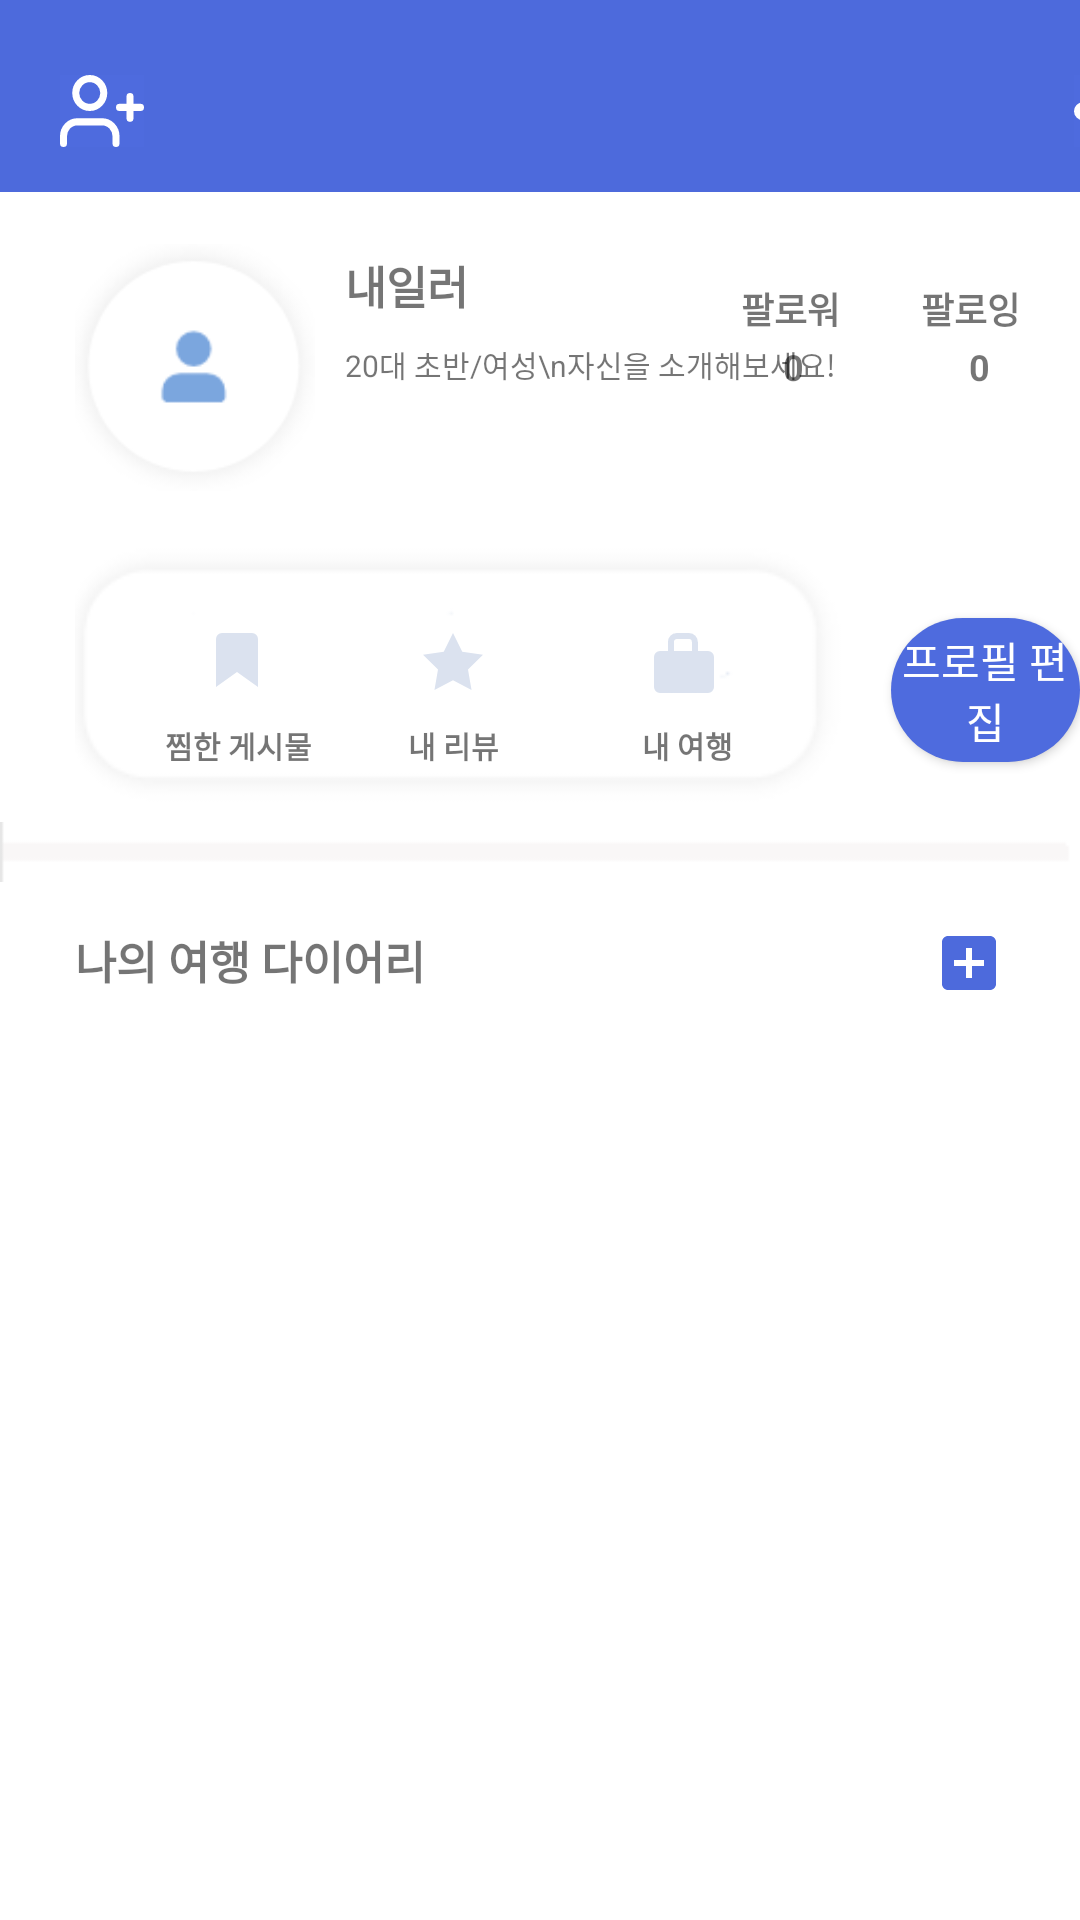

Icon bounding boxes for this 1080px x 1920px phone screenshot, format bbox=[x1, y1, x2, y2]:
add box: bbox=[942, 936, 996, 990]
bookmark profile: bbox=[216, 633, 258, 687]
briefcase profile: bbox=[654, 633, 714, 693]
star profile: bbox=[424, 634, 482, 689]
user plus: bbox=[60, 75, 144, 147]
userinfo personinfo: bbox=[161, 330, 227, 403]
